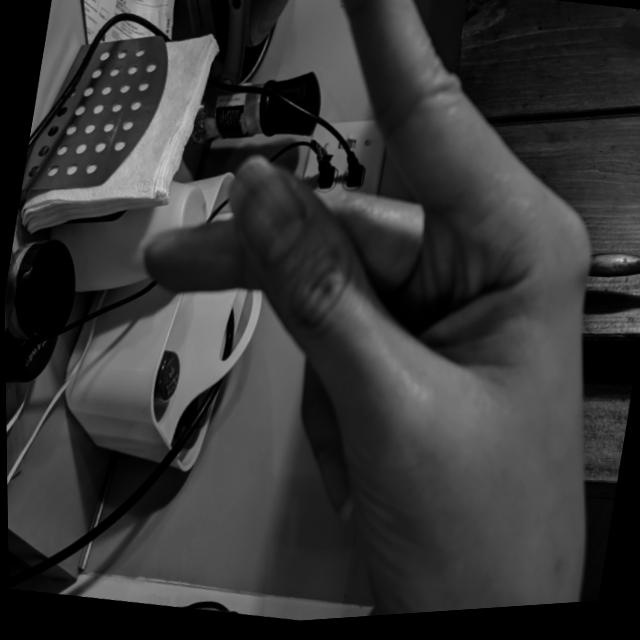P: (71, 0, 639, 636)
